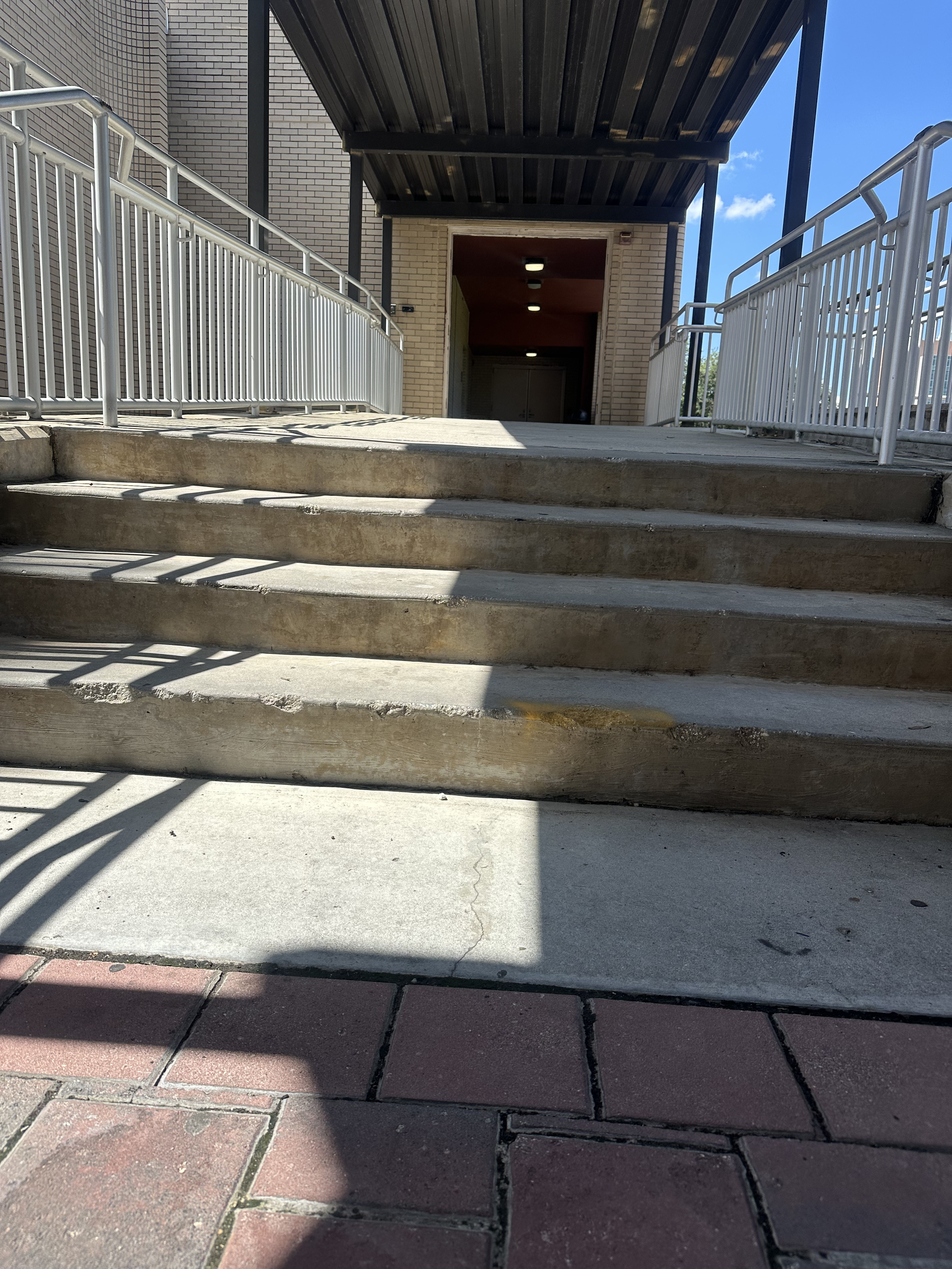stairs: (2, 425, 952, 818)
